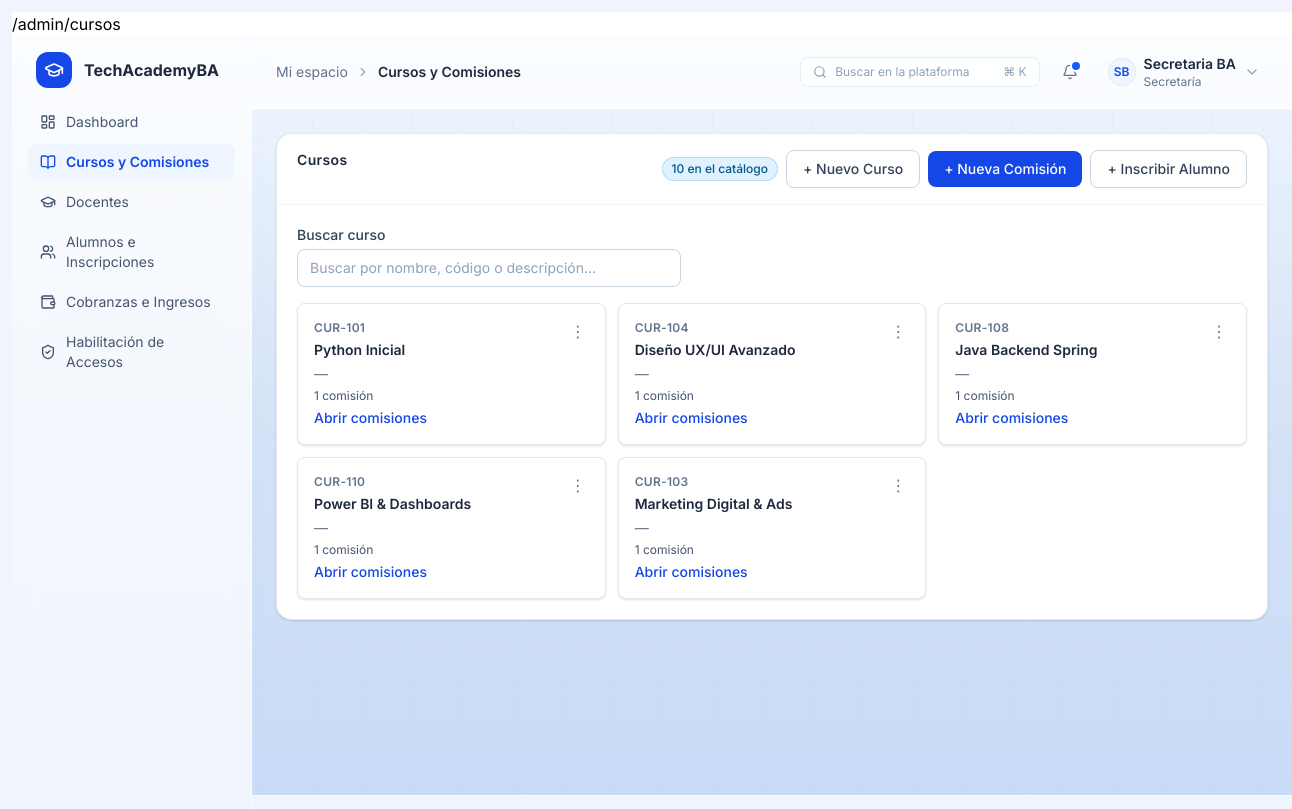
vista de cursos › filtra el grid por nombre, sin distinguir mayúsculas
expect the heading "Cursos" is shown: met, box [297,150,348,170]
Type "python" into the field labelled "Buscar curso" at (489, 268), box [297,249,681,287]
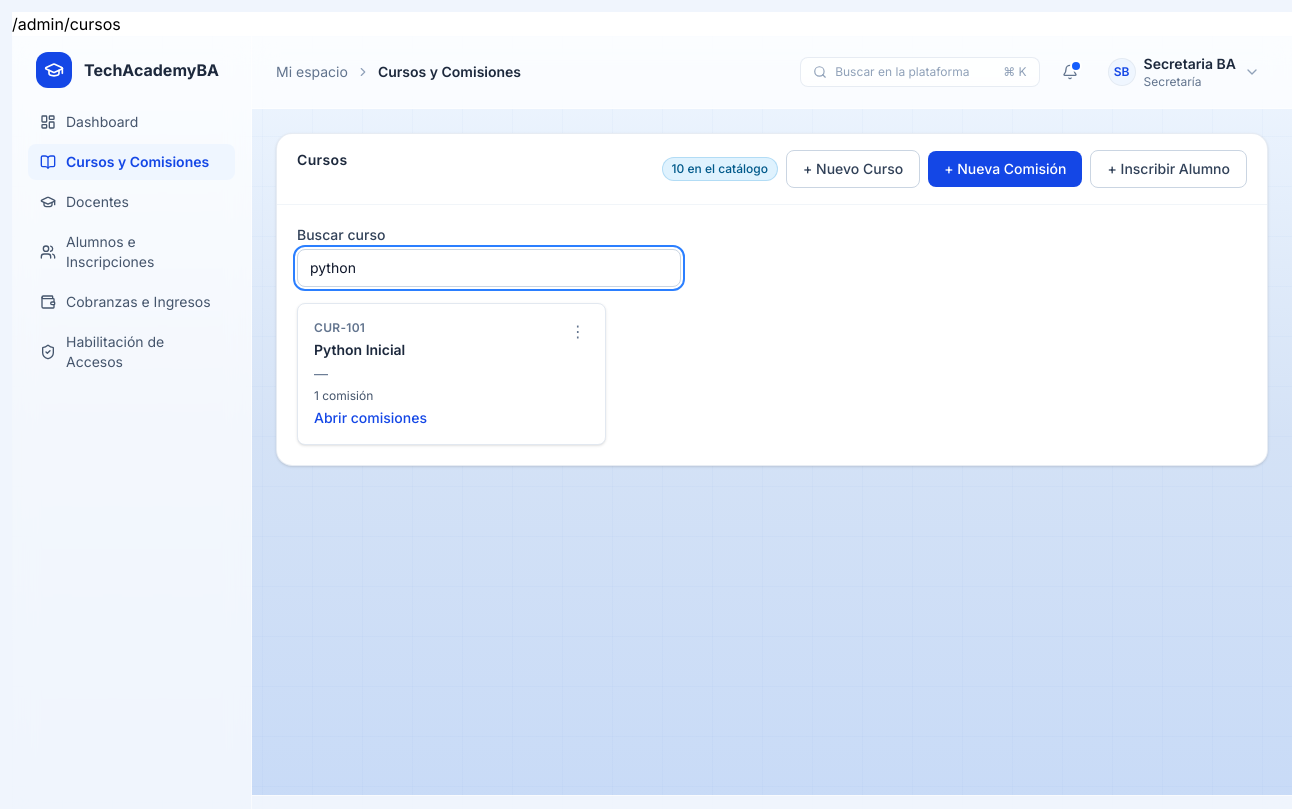
expect the text "Python Inicial" is shown: met, box [314,340,405,360]
expect the button "Java Backend Spring" is gone: met
